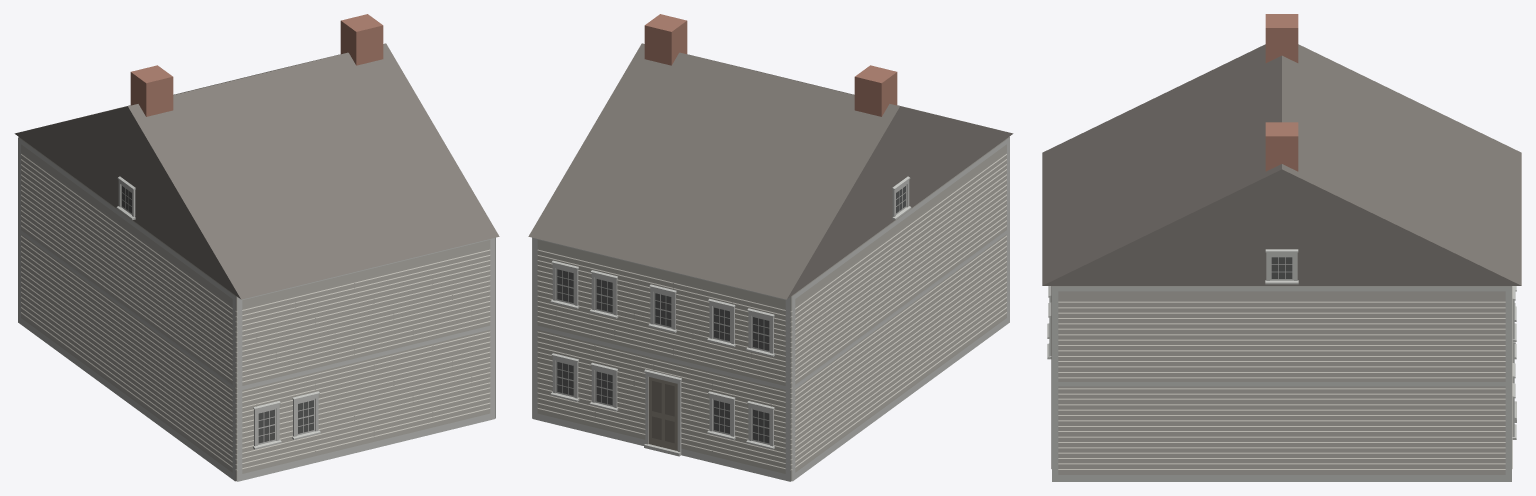
Rendered from recon_1835_blk_randolph_clark_h2_02__inferred_1835.glb.
3 views of the same model, side by side, from view 1: azimuth 30°, elevation 25°; view 2: azimuth 150°, elevation 25°; view 3: azimuth 270°, elevation 25° (orthographic). The views are drawn at different scales.
Visible parts, largest first — view 1: recon_1835_blk_randolph_clark_h2_02__inferred_1835; view 2: recon_1835_blk_randolph_clark_h2_02__inferred_1835; view 3: recon_1835_blk_randolph_clark_h2_02__inferred_1835.
Boxes of the visible parts, x1,y1,x2,y2 form: recon_1835_blk_randolph_clark_h2_02__inferred_1835: (14, 14, 499, 481); recon_1835_blk_randolph_clark_h2_02__inferred_1835: (528, 14, 1013, 481); recon_1835_blk_randolph_clark_h2_02__inferred_1835: (1042, 14, 1521, 481).
Bounding box in the file's own units: 8.26 × 9.58 × 12.25.
